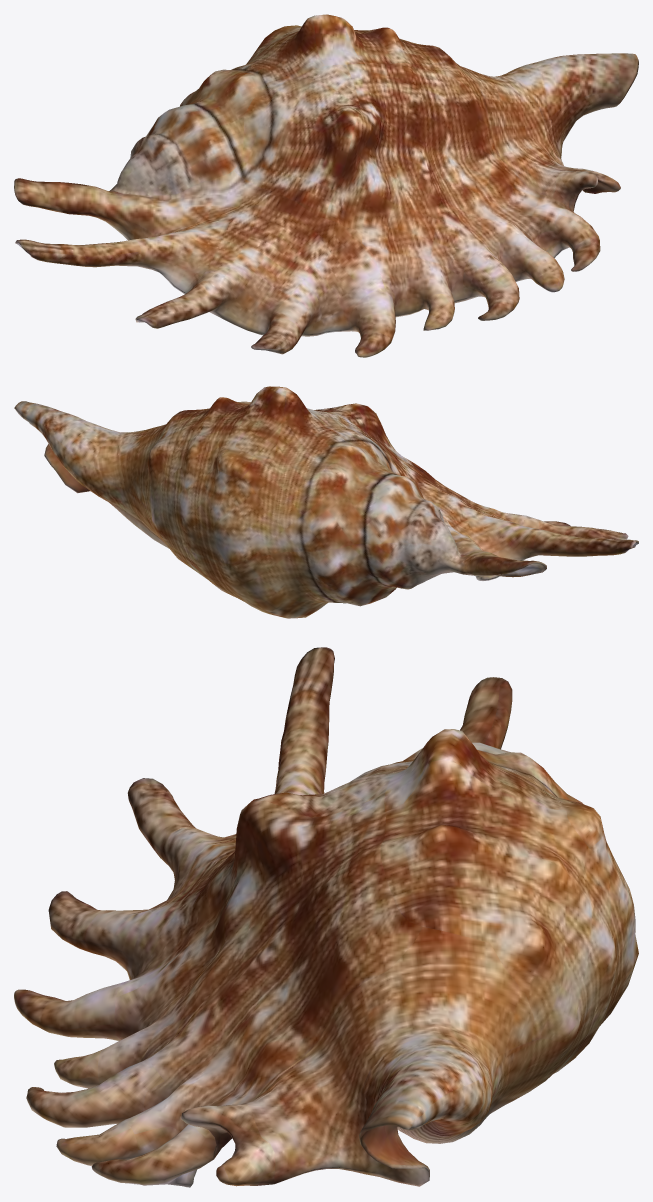
The picture shows the model from 3 angles, top to bottom: view 1: azimuth 30°, elevation 25°; view 2: azimuth 150°, elevation 25°; view 3: azimuth 270°, elevation 25°; orthographic projection. The views are drawn at different scales.
Parts seen in each view (by area): view 1: lambis_shell; view 2: lambis_shell; view 3: lambis_shell.
Boxes of the visible parts, x1,y1,x2,y2 form: lambis_shell: [14, 14, 638, 357]; lambis_shell: [14, 386, 638, 618]; lambis_shell: [14, 647, 638, 1187].
Size of the model in its own units: 0.1395 by 0.0465 by 0.0745.
1 material, 1 textured.
